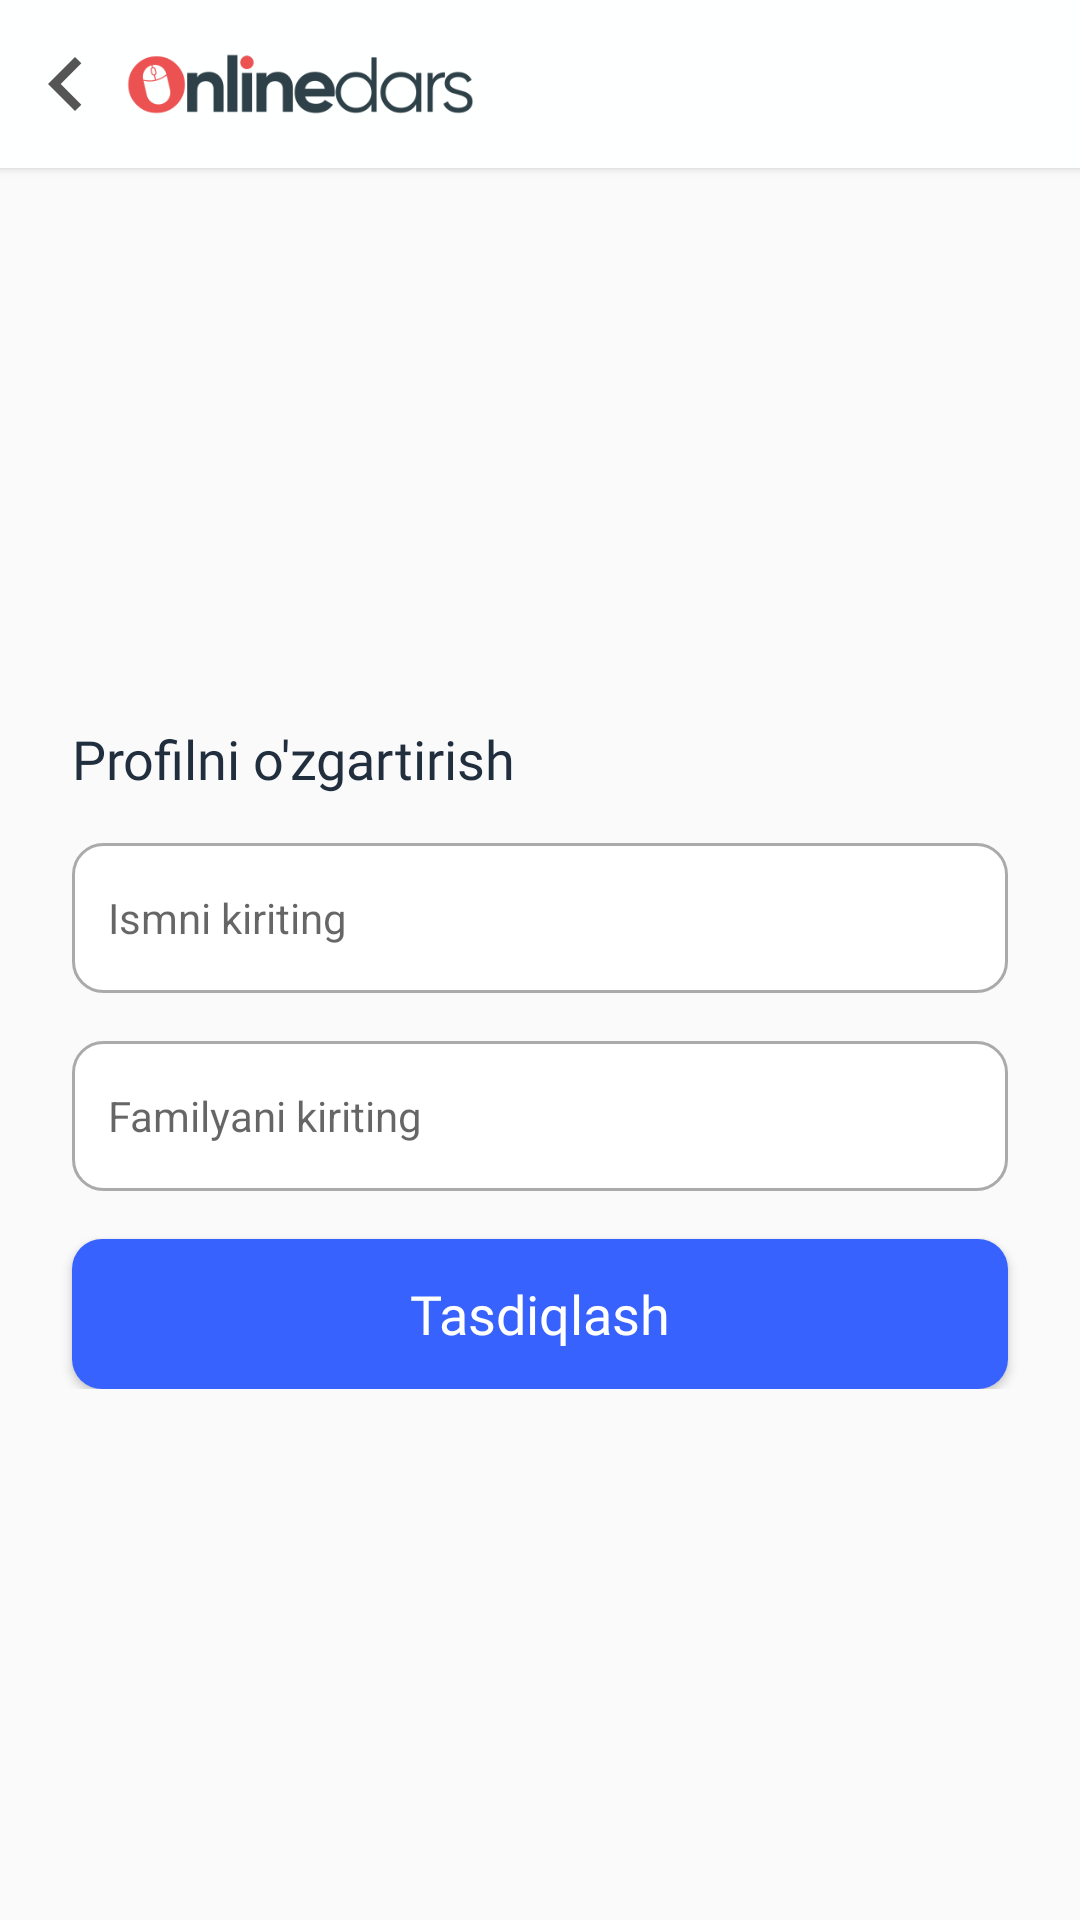

Named icons in this screenshot (1080 x 1920) and their centers, point (x, y):
chevron left toolbar: point (64, 84)
